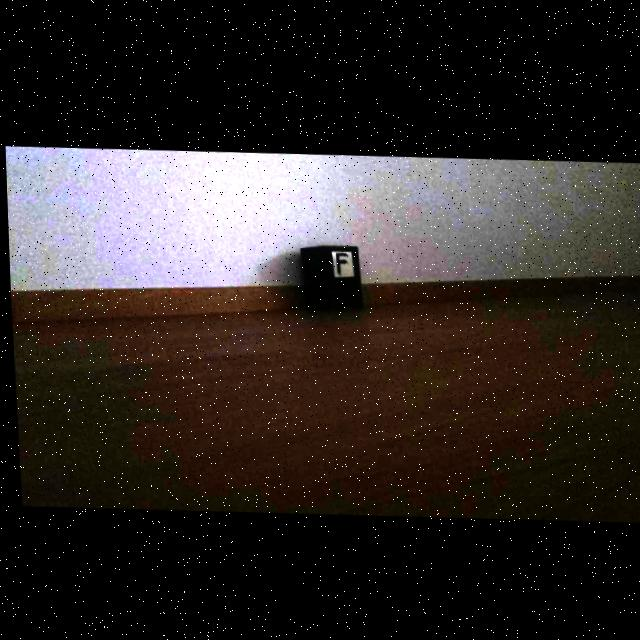F: (334, 250, 345, 270)
